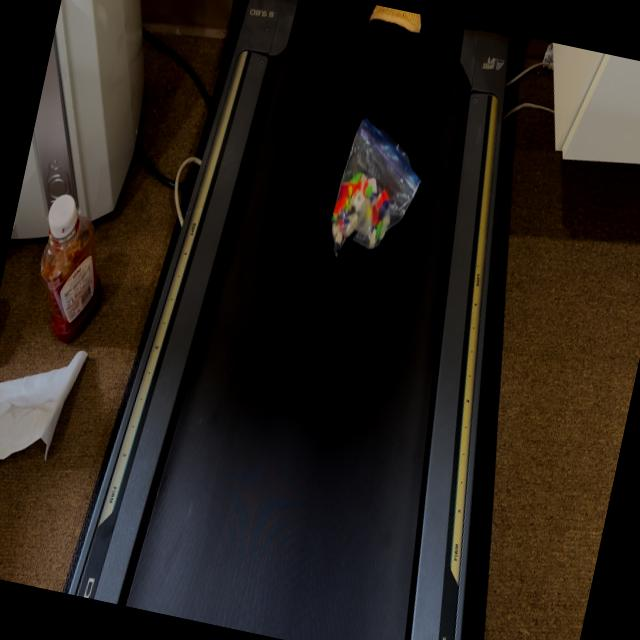Trash: (324, 114, 431, 267)
